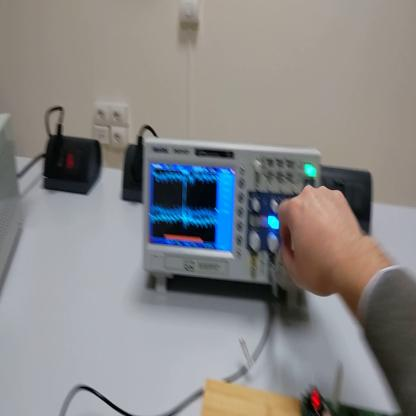hand: (278, 184, 362, 300)
low voltage board: (304, 385, 361, 413)
oscilloscope: (147, 140, 326, 317)
power supply: (1, 115, 26, 309)
socket: (42, 131, 103, 200), (121, 143, 143, 203)
working area: (202, 380, 346, 415)
